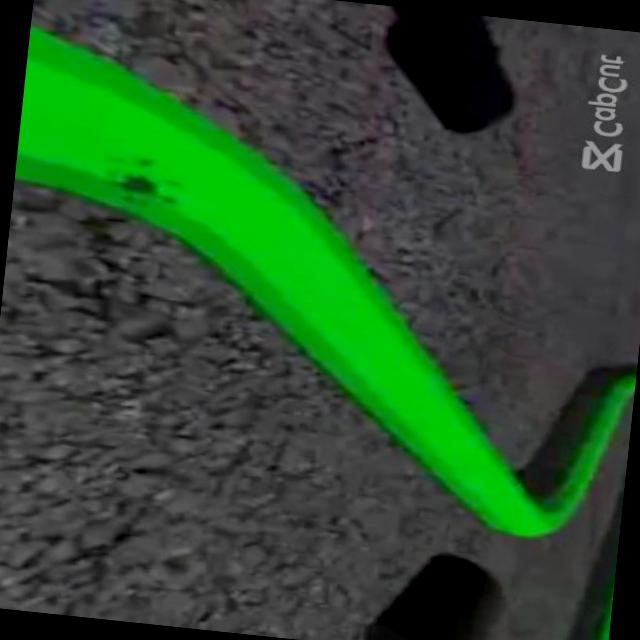gas: (0, 19, 598, 538)
